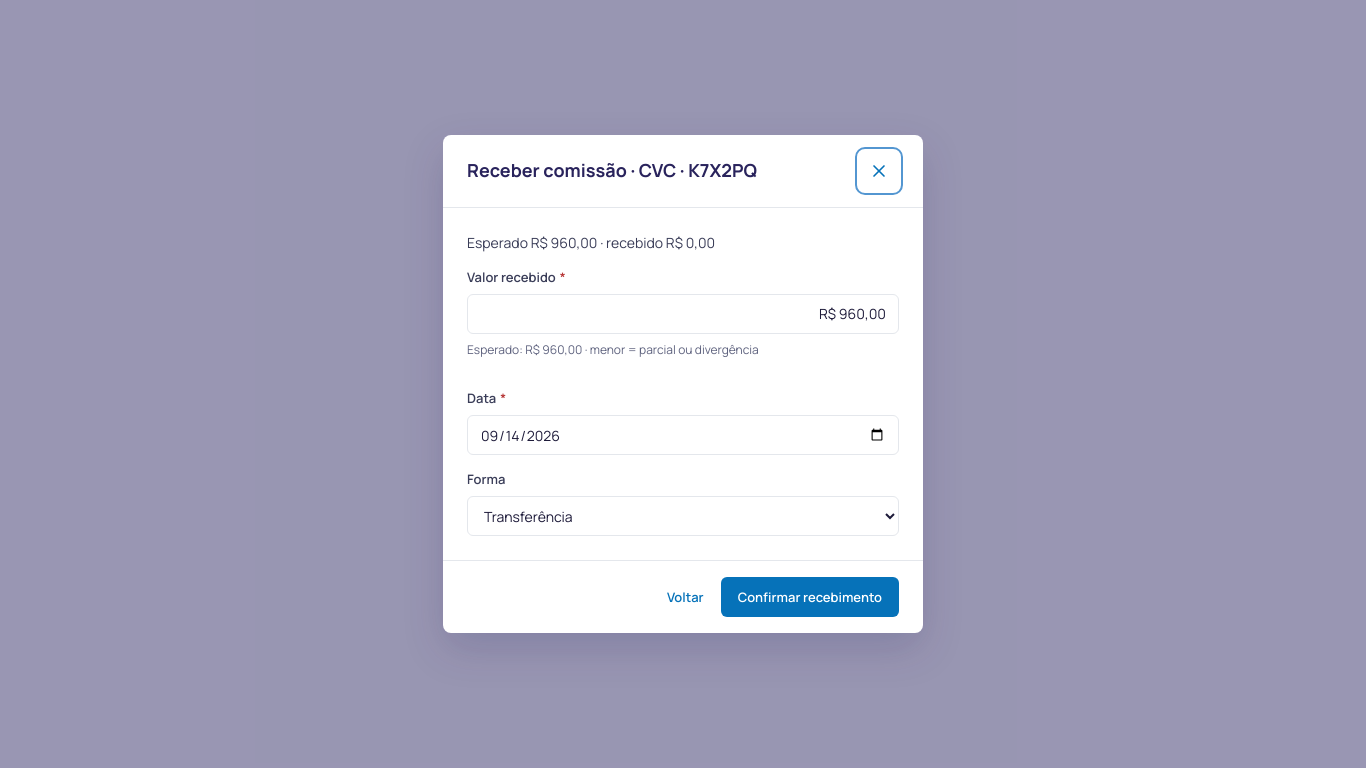
Test: 422 recebimento_acima_esperado do servidor mostra o aviso com o excedente devolvido
Click the button "Confirmar recebimento".
click(810, 597)  # box x1=721 y1=577 x2=899 y2=617
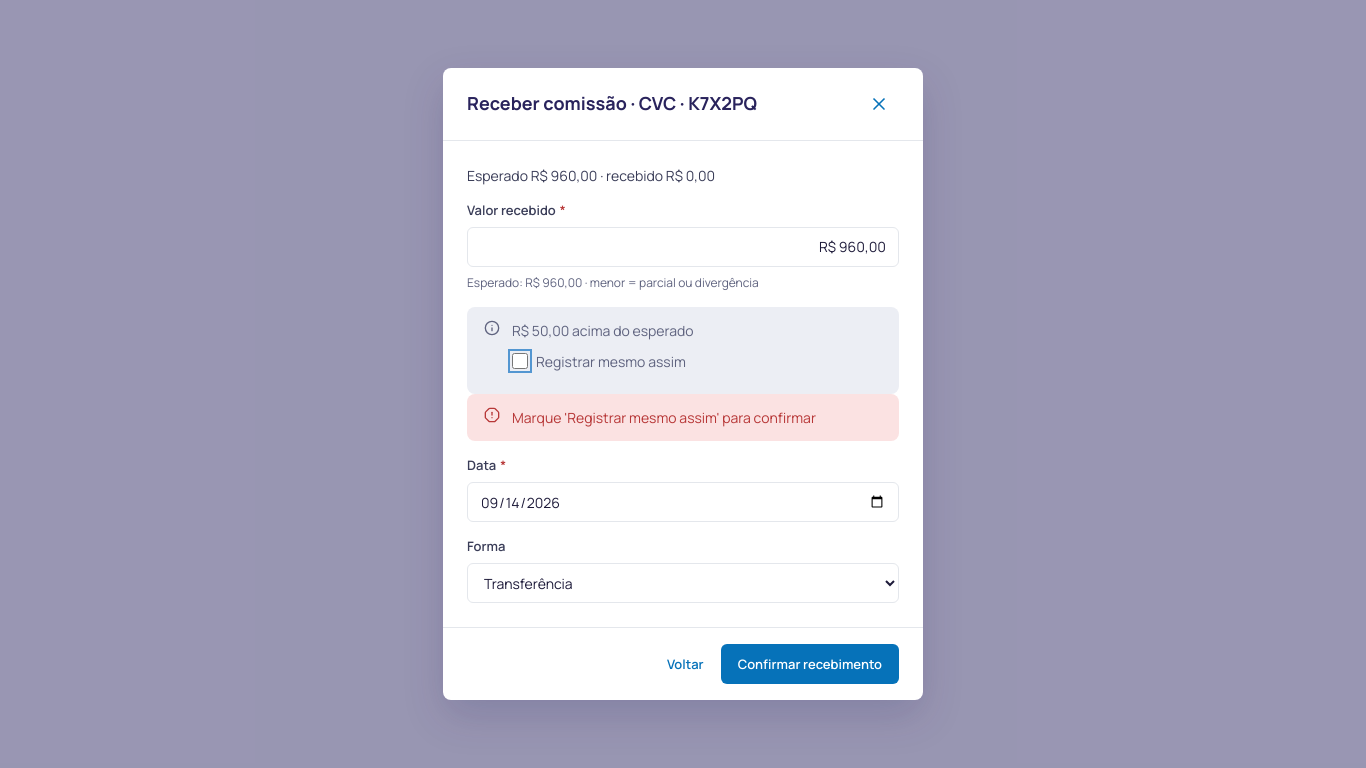
expect the text "R$ 50,00 acima do esperado" is shown: met, box x1=512 y1=322 x2=694 y2=340
expect the checkbox labelled "Registrar mesmo assim" is shown: met, box x1=512 y1=354 x2=528 y2=370
